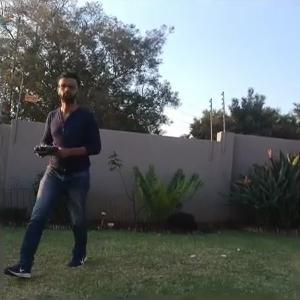follow: (1, 64, 104, 282)
